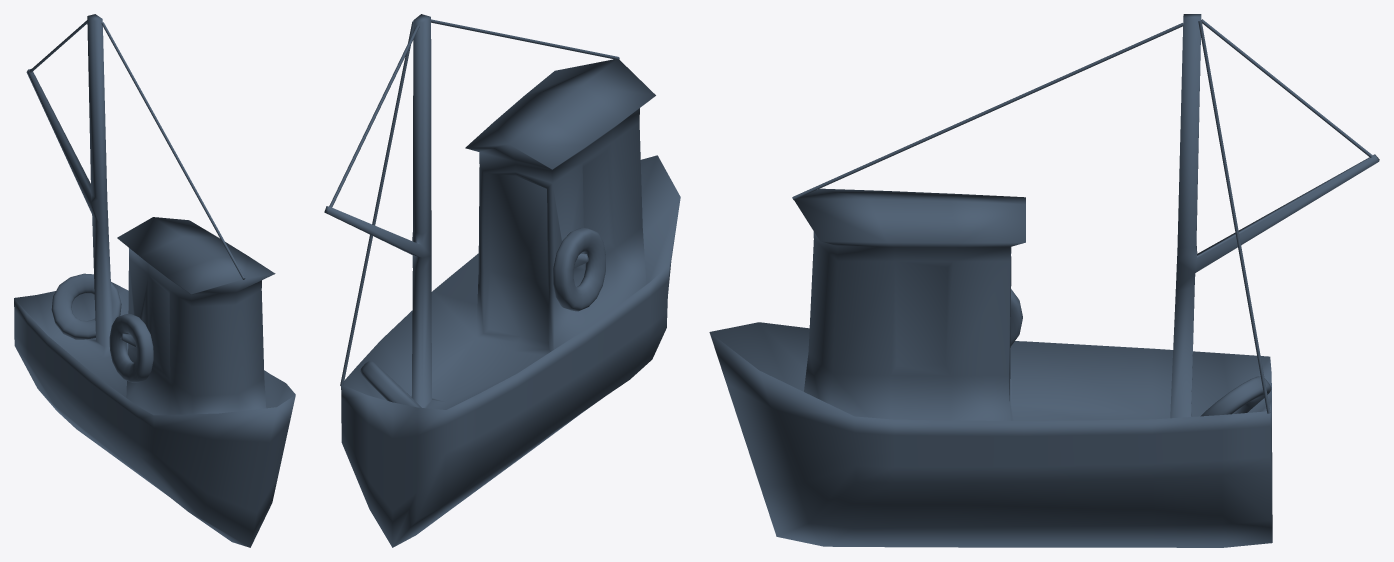
File: TotallyNotAFishingBoat.fbx
The picture shows the model from 3 angles, left to right: view 1: azimuth 30°, elevation 25°; view 2: azimuth 150°, elevation 25°; view 3: azimuth 270°, elevation 25°; orthographic projection. The views are drawn at different scales.
Parts seen in each view (by area): view 1: Fishing_boat; view 2: Fishing_boat; view 3: Fishing_boat.
Part boxes in pixels (bbox=[...]): Fishing_boat: bbox=[14, 14, 295, 547]; Fishing_boat: bbox=[324, 14, 680, 547]; Fishing_boat: bbox=[709, 14, 1379, 547].
Bounding box in the file's own units: 998 × 3017 × 3419.
